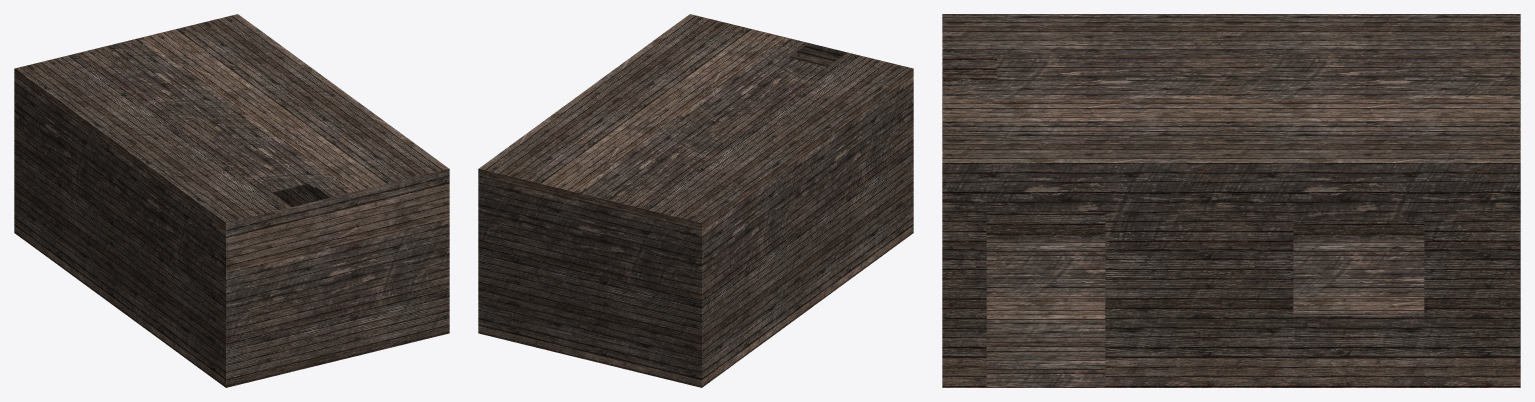
The model's file is New_cabin.fbx.
3 views of the same model, side by side, from view 1: azimuth 30°, elevation 25°; view 2: azimuth 150°, elevation 25°; view 3: azimuth 270°, elevation 25° (orthographic). The views are drawn at different scales.
Visible parts, largest first — view 1: polySurface18; view 2: polySurface18; view 3: polySurface18.
Boxes of the visible parts, x1,y1,x2,y2 form: polySurface18: (14, 14, 449, 387); polySurface18: (478, 14, 913, 387); polySurface18: (942, 14, 1520, 387).
Bounding box in the file's own units: 23.99 × 16.87 × 39.33.
